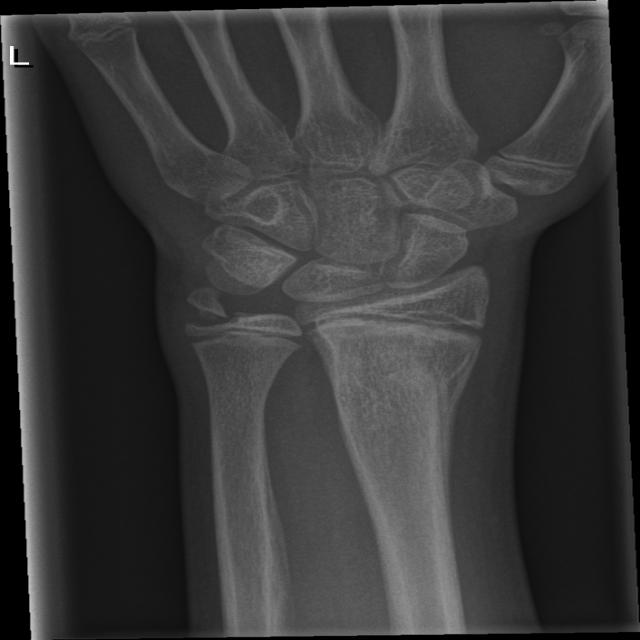radius fracture: (346, 342, 508, 463)
ulna fracture: (171, 292, 297, 493)
